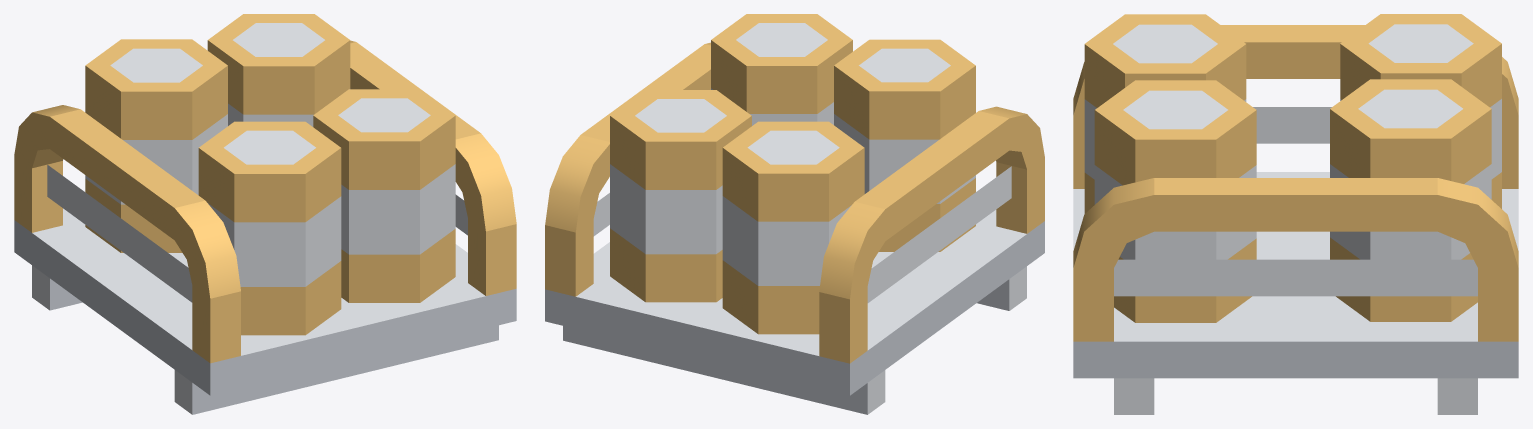
Rendered from barrelSet1.glb.
3 views of the same model, side by side, from view 1: azimuth 30°, elevation 25°; view 2: azimuth 150°, elevation 25°; view 3: azimuth 270°, elevation 25° (orthographic). The views are drawn at different scales.
Visible parts, largest first — view 1: barrel.010; view 2: barrel.010; view 3: barrel.010.
Boxes of the visible parts, x1,y1,x2,y2 form: barrel.010: (14,14,516,414); barrel.010: (545,14,1044,414); barrel.010: (1073,14,1518,414).
Bounding box in the file's own units: 2.72 × 1.92 × 3.01.
